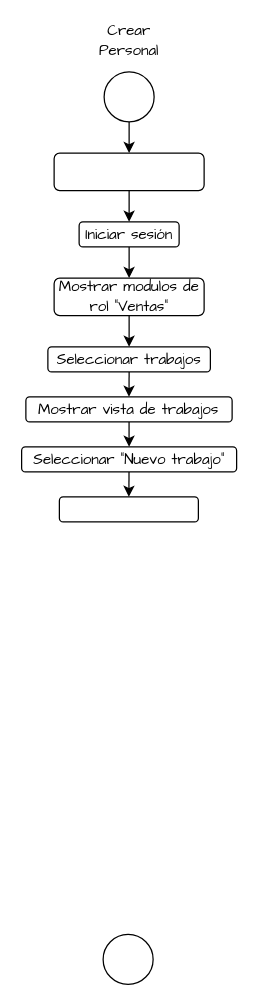
The diagram is 259 pixels wide and 1006 high, and some of its shapes have lost their labels. Here are the shapes that lost their labels. From the top down, the centre of each, then its label:
At [128,171]: "Entrar a la aplicación".
At [128,509]: "Ingresar nombre".
